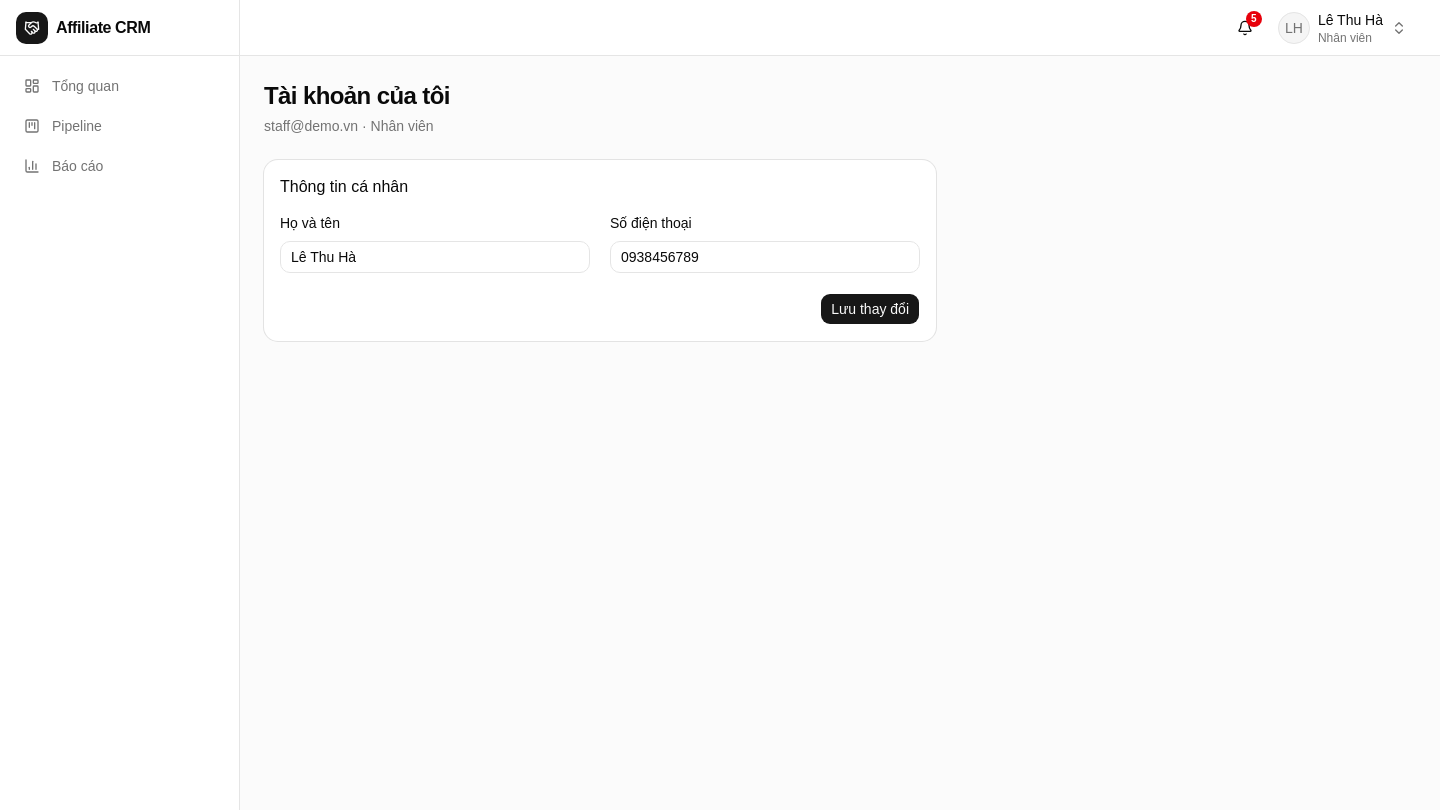
Scenario: ProfilePage › updates name and phone; the header follows
Replace the text in the field labelled "Họ và tên" with "Lê Thu Hằng". click: (435,257)
box: [280, 241, 590, 273]
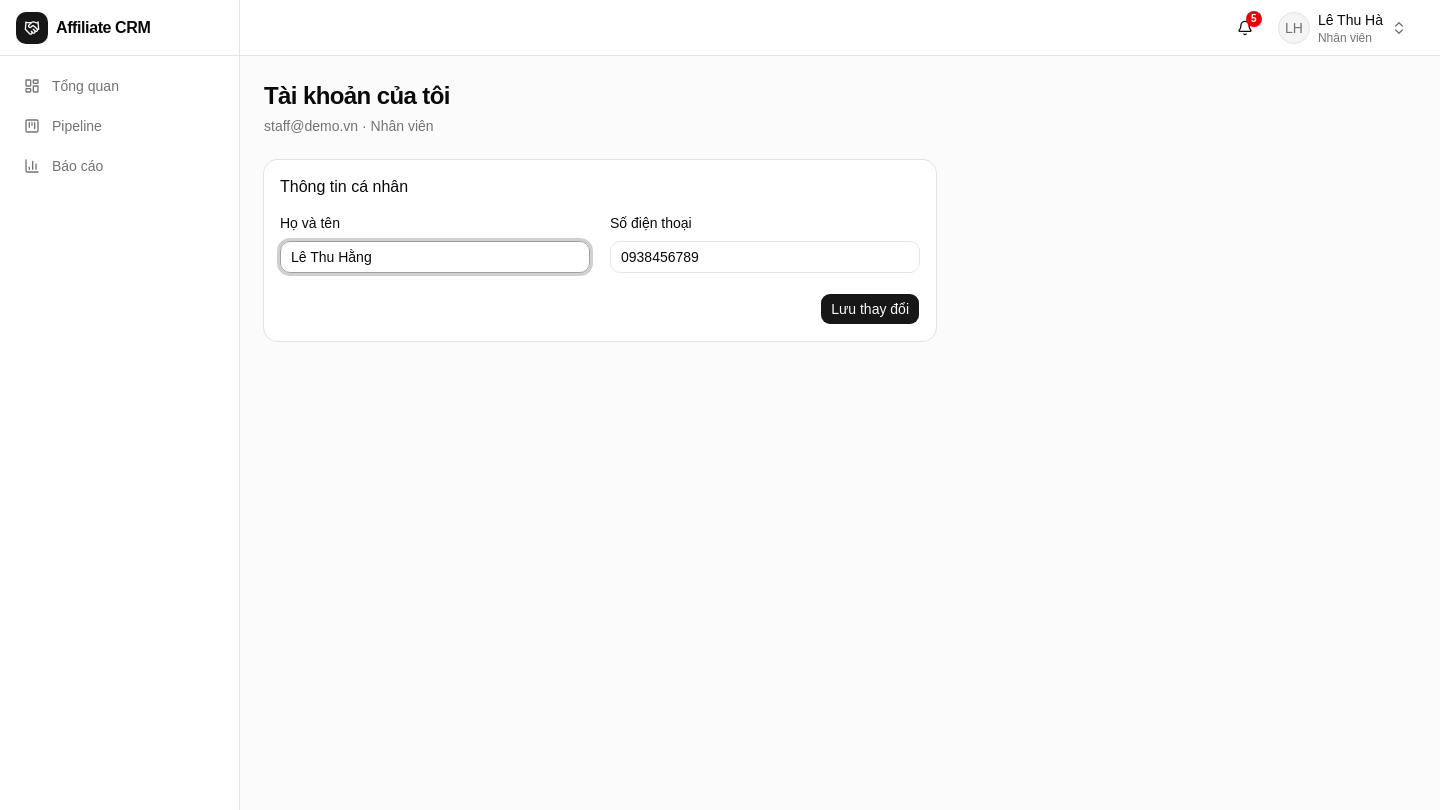
Click the button "Lưu thay đổi". click: (870,309)
box: [820, 293, 920, 325]
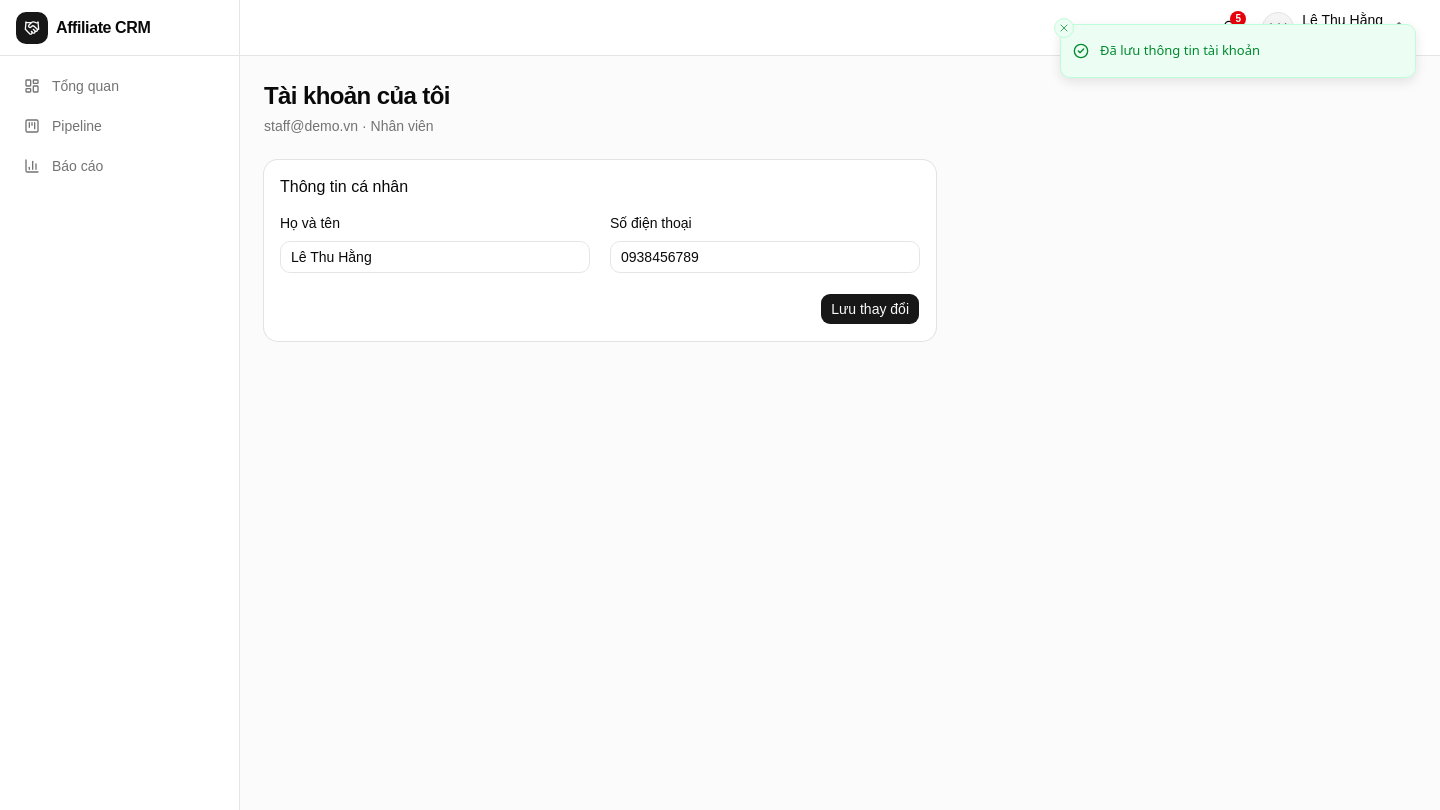
Expected: the text "Đã lưu thông tin tài khoản" is shown, [1100, 41, 1260, 60]
Expected: the text "Lê Thu Hằng" is shown, [1302, 10, 1383, 30]
Expected: the button with aria-label "Tài khoản" shows "Lê Thu Hằng", [1253, 8, 1416, 48]
